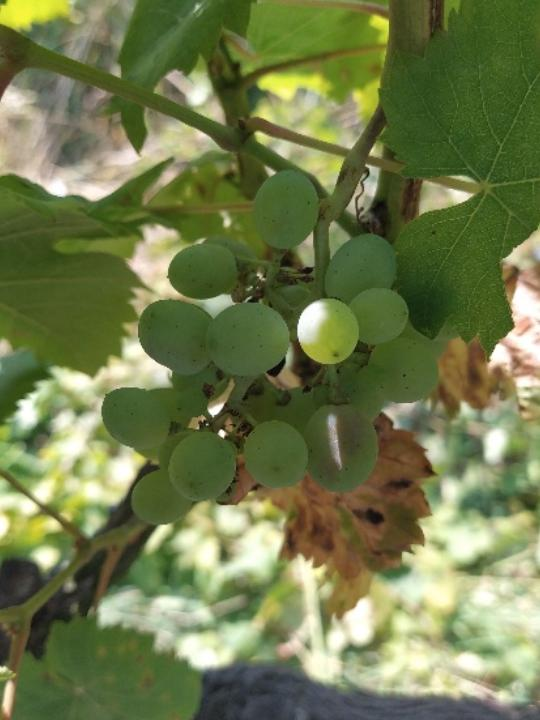grape: (98, 167, 453, 526)
